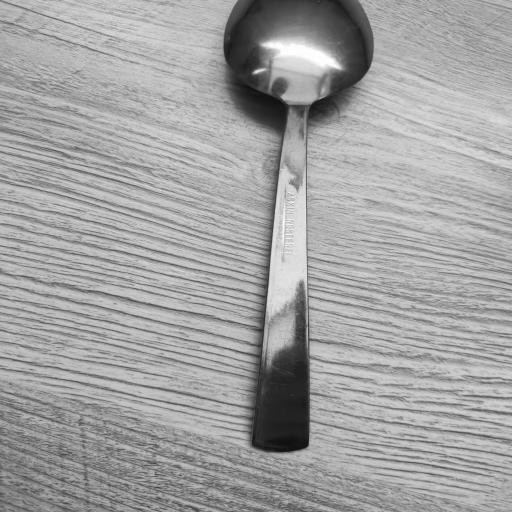spoon: (230, 0, 373, 450)
